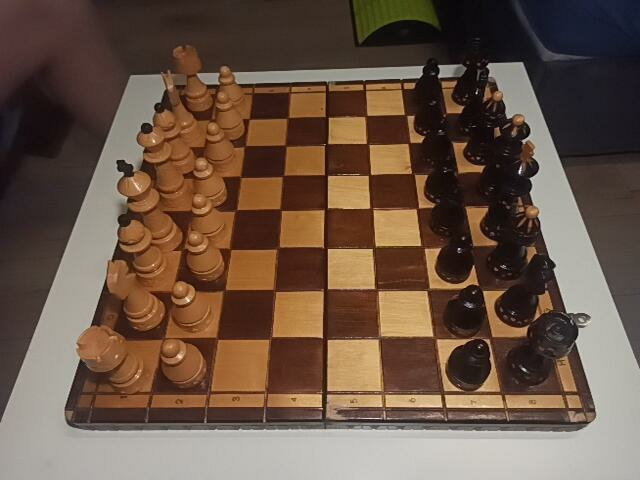B-Bishop: (491, 208, 538, 280), (466, 91, 507, 166)
B-King: (480, 142, 539, 244)
B-Knight: (497, 254, 557, 328), (462, 73, 492, 138)
B-Pawn: (447, 340, 493, 392), (445, 286, 485, 336), (436, 233, 475, 284), (423, 156, 459, 204), (432, 187, 467, 235), (423, 119, 453, 166), (415, 91, 446, 135), (414, 59, 443, 105)
B-Queen: (480, 115, 529, 199)
B-Rook: (508, 310, 578, 391), (454, 37, 489, 107)
W-Bishop: (117, 215, 169, 285), (152, 103, 196, 173)
W-King: (115, 159, 181, 250)
W-Knight: (105, 259, 167, 331), (159, 72, 200, 145)
W-Pawn: (160, 340, 207, 391), (171, 281, 212, 332), (187, 231, 225, 280), (189, 195, 227, 244), (192, 157, 227, 205), (203, 123, 237, 170), (213, 92, 244, 140), (217, 66, 246, 113)
W-Queen: (138, 123, 188, 204)
W-Rook: (76, 326, 148, 394), (172, 45, 213, 111)
